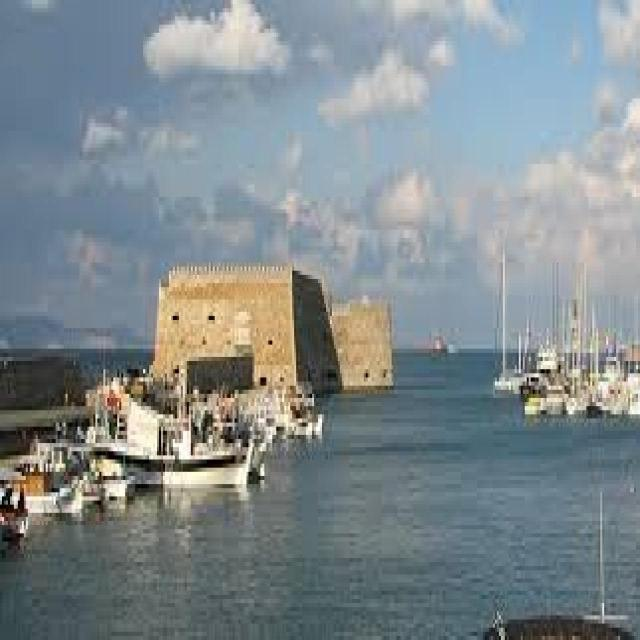Kules: (158, 255, 395, 401)
